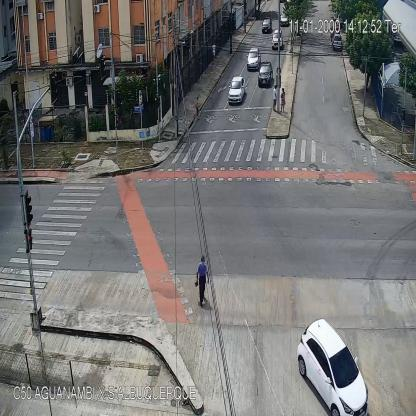car: (298, 318, 367, 416), (228, 76, 247, 104), (258, 63, 274, 90), (247, 46, 261, 70), (272, 29, 282, 50), (262, 16, 272, 36), (332, 34, 342, 50)
person: (197, 256, 209, 305), (192, 95, 200, 121), (273, 84, 278, 112), (281, 87, 286, 114), (212, 42, 216, 63)
